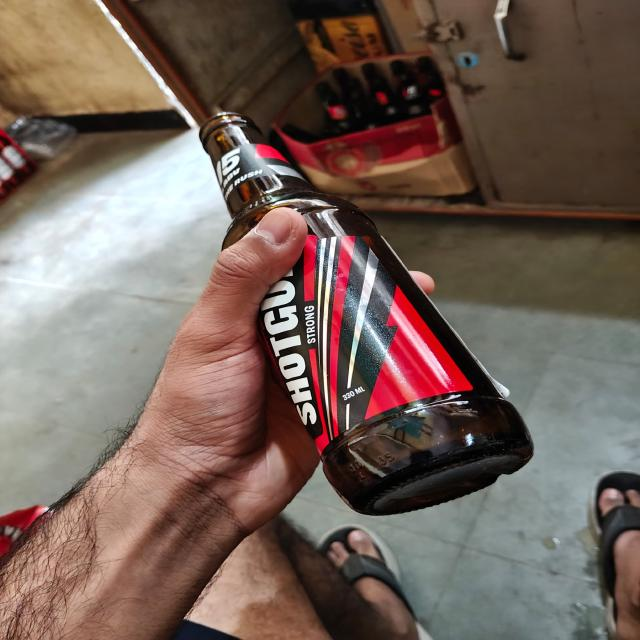Alcohol-Bottle-Detection: (212, 113, 530, 500)
